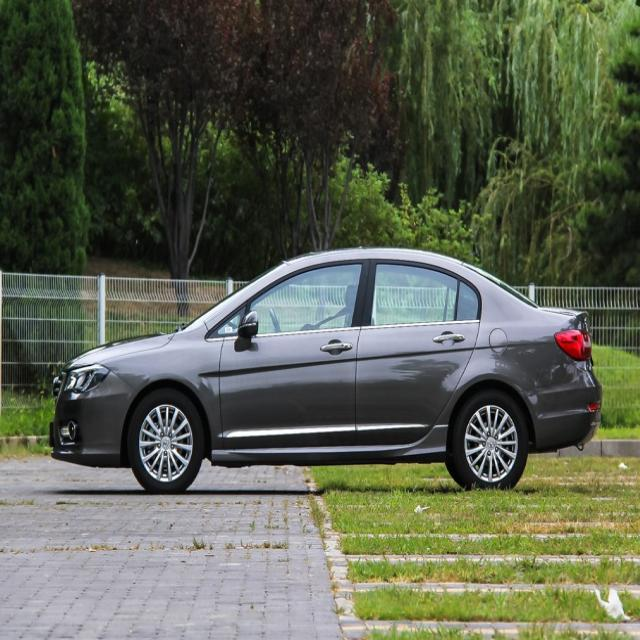back_left_side_light: (554, 327, 594, 362)
door: (357, 256, 494, 450)
front_bumper: (49, 369, 138, 467)
front_left_side_door: (219, 256, 372, 454)
front_left_side_light: (62, 361, 111, 395)
front_left_side_mirror: (239, 309, 259, 340)
rear_bumper: (522, 354, 603, 450)
wheel: (129, 386, 204, 494), (454, 388, 530, 492)
